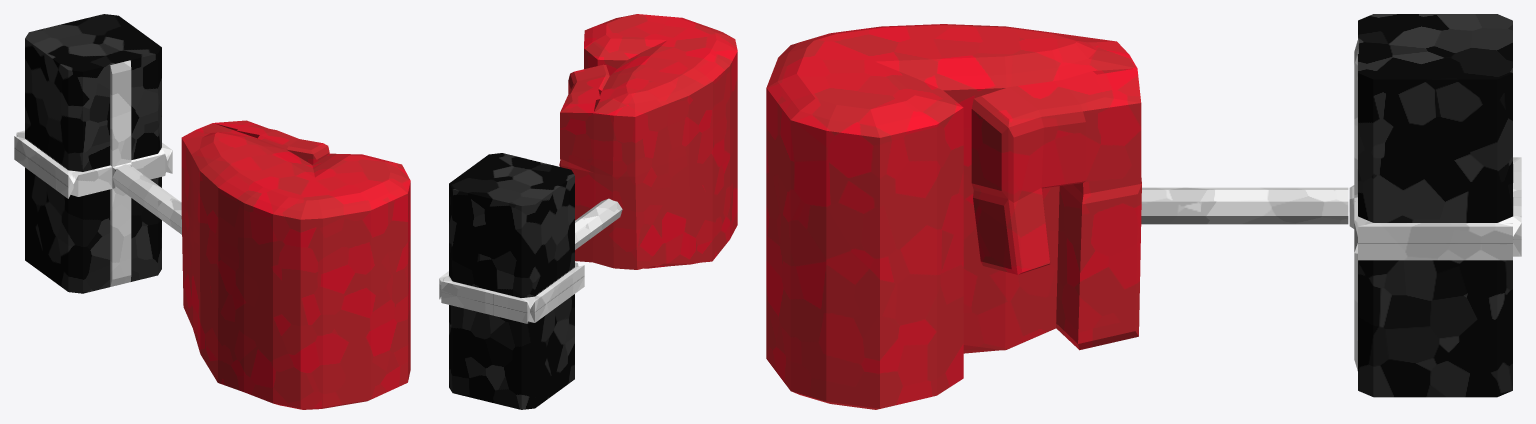
File: BoxGlove.fbx
3 renders of one model, left to right at view 1: azimuth 30°, elevation 25°; view 2: azimuth 150°, elevation 25°; view 3: azimuth 270°, elevation 25°, orthographic. The views are drawn at different scales.
Visible parts, largest first — view 1: glove, holder 2, rod; view 2: glove, holder 2, rod; view 3: glove, holder 2, rod.
Part boxes in pixels (x1,y1,x2,y2): glove: [181, 120, 410, 409]; holder 2: [14, 14, 172, 293]; rod: [112, 164, 181, 234]; glove: [559, 14, 737, 269]; holder 2: [439, 153, 584, 409]; rod: [575, 198, 622, 249]; glove: [766, 24, 1141, 409]; holder 2: [1349, 14, 1521, 397]; rod: [1141, 187, 1348, 224].
Bounding box in the file's own units: 356 × 458 × 974.
Materials: 3 (3 with a texture image).
